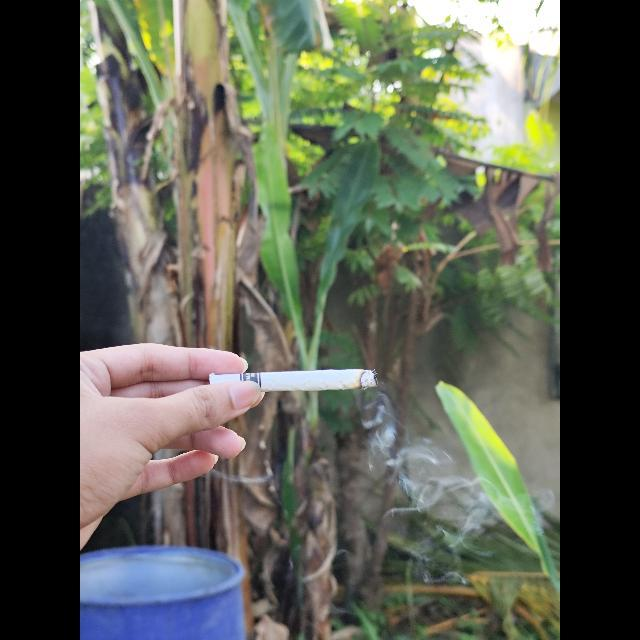rokok: (202, 363, 384, 401)
